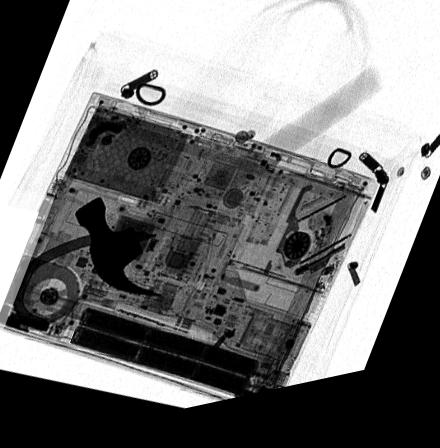Hammer: (73, 82, 382, 305)
